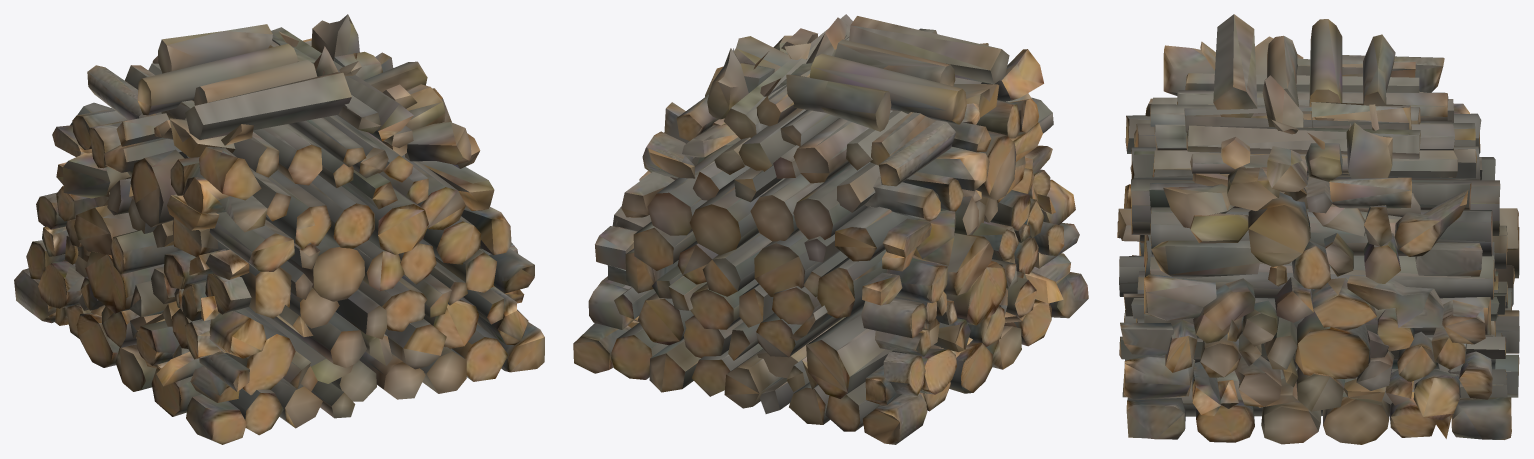
The model's file is resource_firewood_1.glb.
The picture shows the model from 3 angles, left to right: view 1: azimuth 30°, elevation 25°; view 2: azimuth 150°, elevation 25°; view 3: azimuth 270°, elevation 25°; orthographic projection. The views are drawn at different scales.
Visible parts, largest first — view 1: MeshyGear_resource_firewood; view 2: MeshyGear_resource_firewood; view 3: MeshyGear_resource_firewood.
Part boxes in pixels (x1,y1,x2,y2): MeshyGear_resource_firewood: [14, 14, 544, 444]; MeshyGear_resource_firewood: [573, 14, 1088, 444]; MeshyGear_resource_firewood: [1117, 14, 1519, 444].
Size of what is drawn, in the model's own units: 1.6 by 1.31 by 1.6.
1 material, 1 textured.
